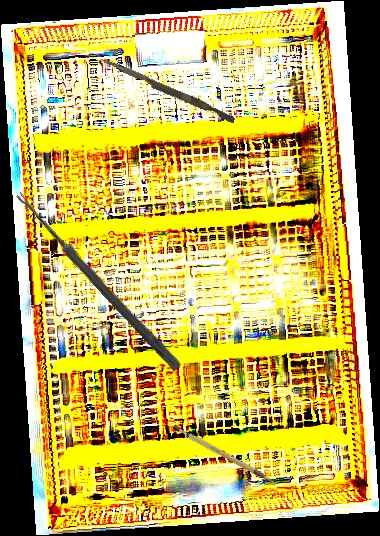Pusher: (96, 56, 238, 124)
Scalpel Handle: (171, 412, 277, 500)
Surgical Spoon: (13, 190, 183, 372)
